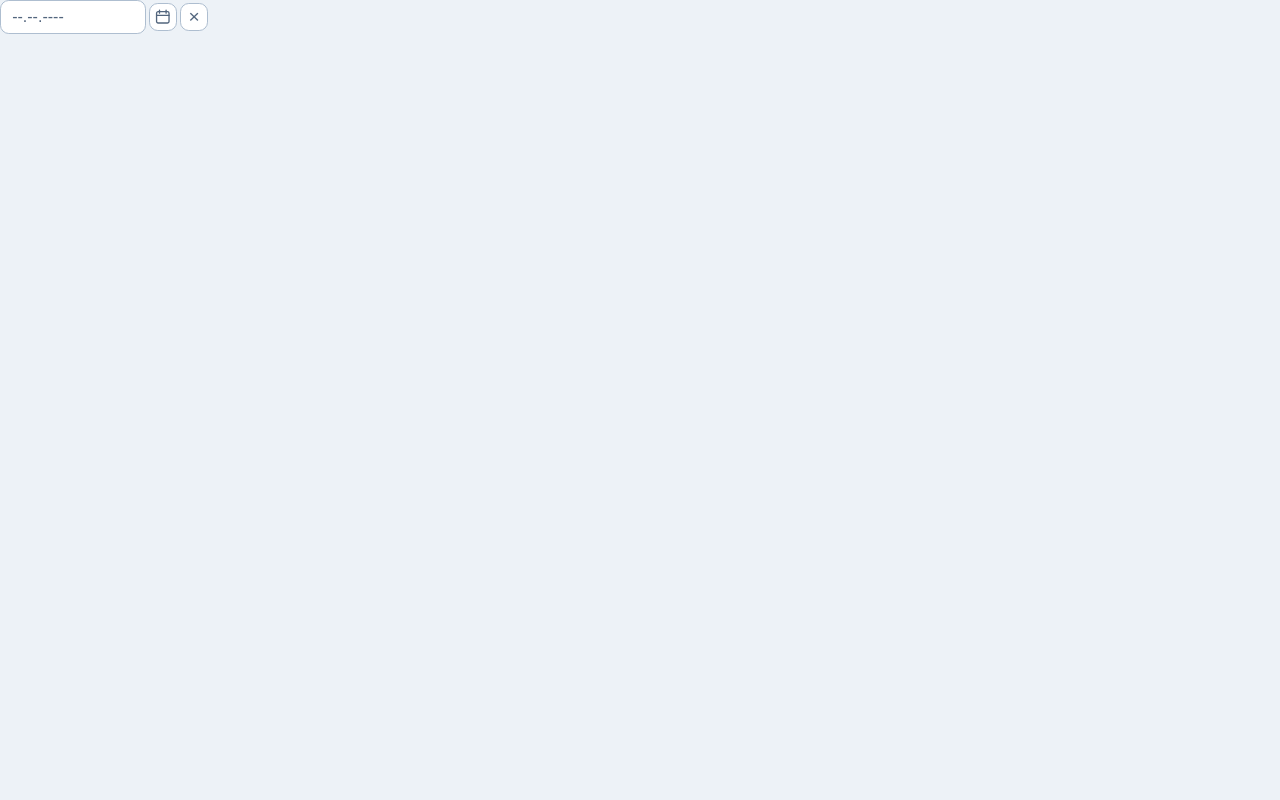
Test: can hide today for expiry and preparation dates
Step 1. Click the button named "Выбрать дату" → (163, 17), box [149,3,177,31]
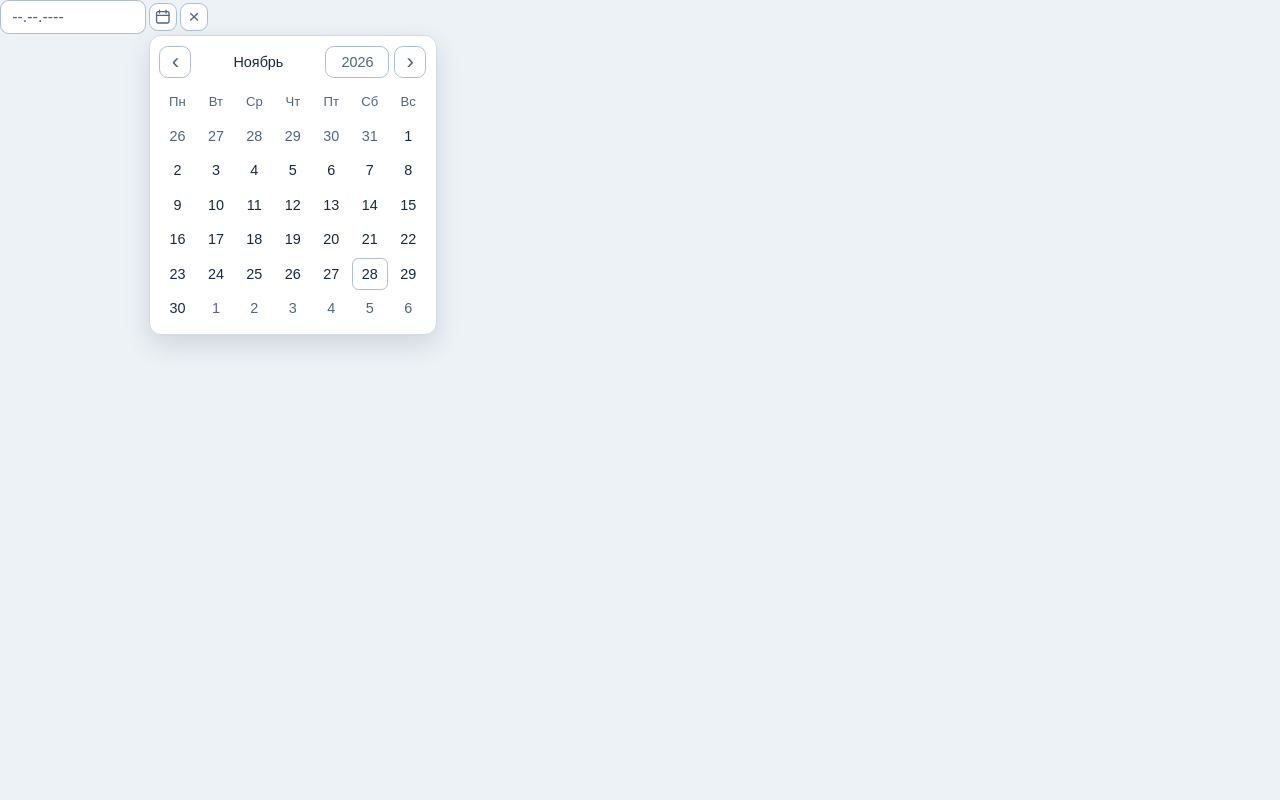
expect the button named "Следующий месяц" is shown: met, box [394,46,426,78]
